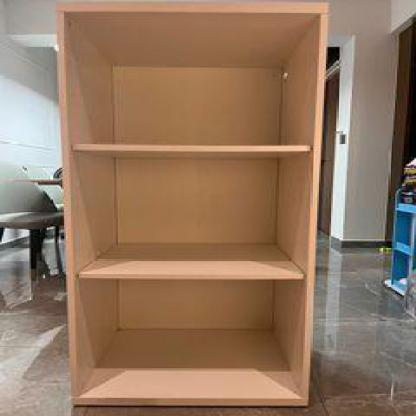lamp: (55, 0, 330, 409)
